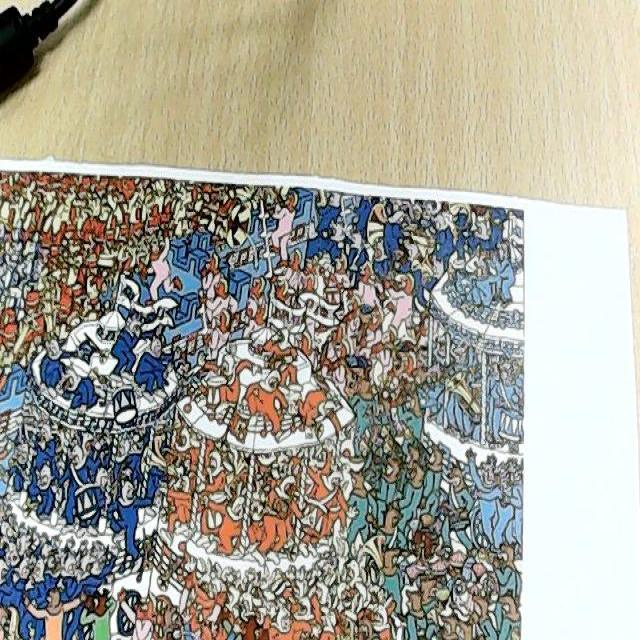waldo: (414, 340, 432, 371)
